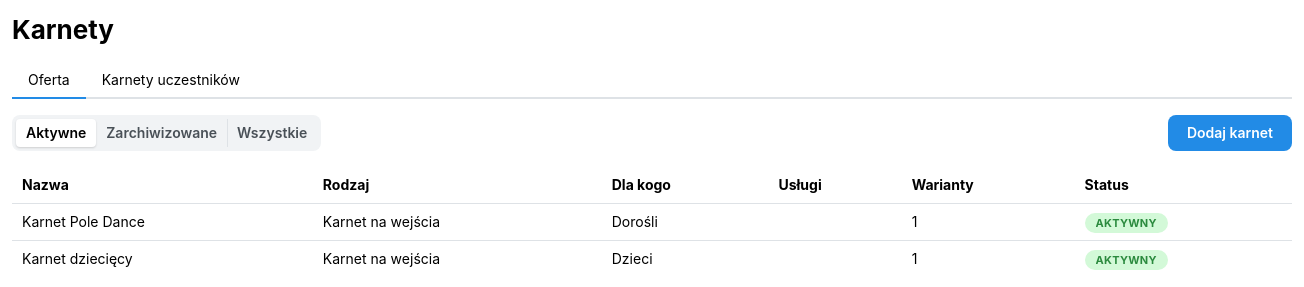
Test: shows the passes of the chosen participant
The image size is (1304, 287).
Click the tab "Karnety uczestników". click: (171, 81)
box: [86,63,256,99]
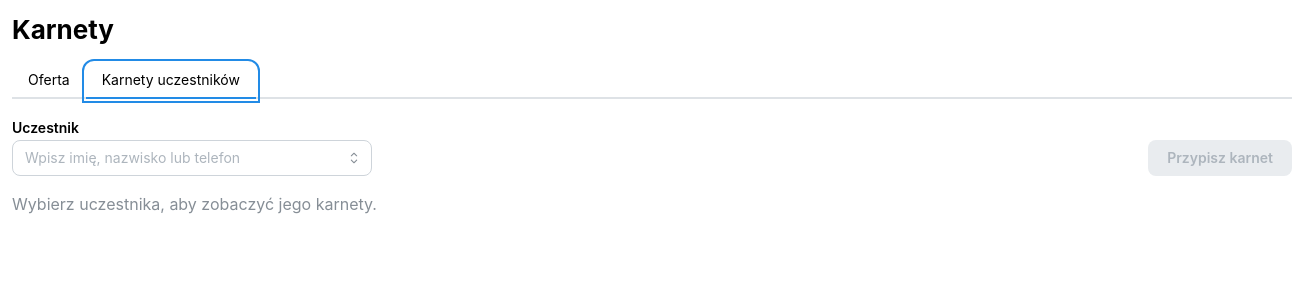
Click the dropdown labelled "Uczestnik". click: (192, 158)
box: [12,140,372,176]
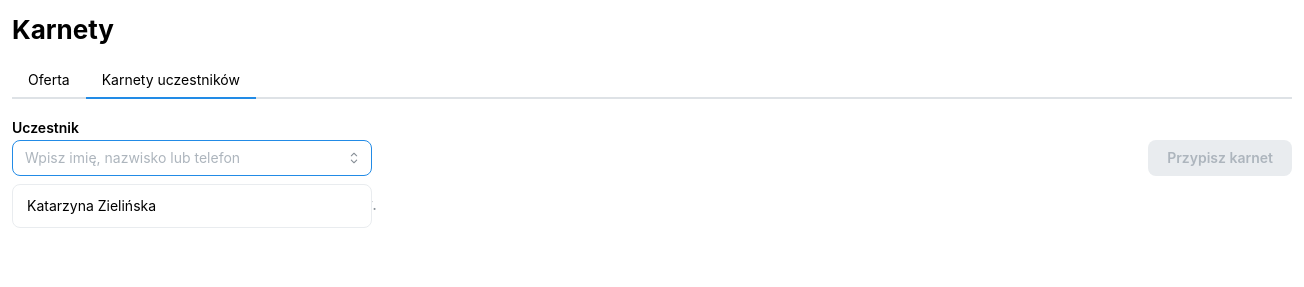
Click the option "Katarzyna Zielińska". click: (92, 205)
box: [27,197,156,214]
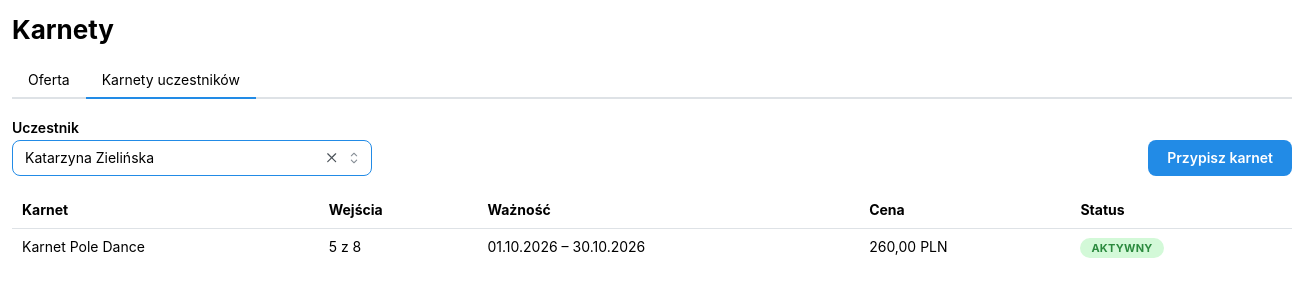
expect the text "Karnet Pole Dance" is shown: met, box [22,238,145,255]
expect the text "5 z 8" is shown: met, box [319,228,478,265]
expect the text "01.10.2026 – 30.10.2026" is shown: met, box [478,228,859,265]
